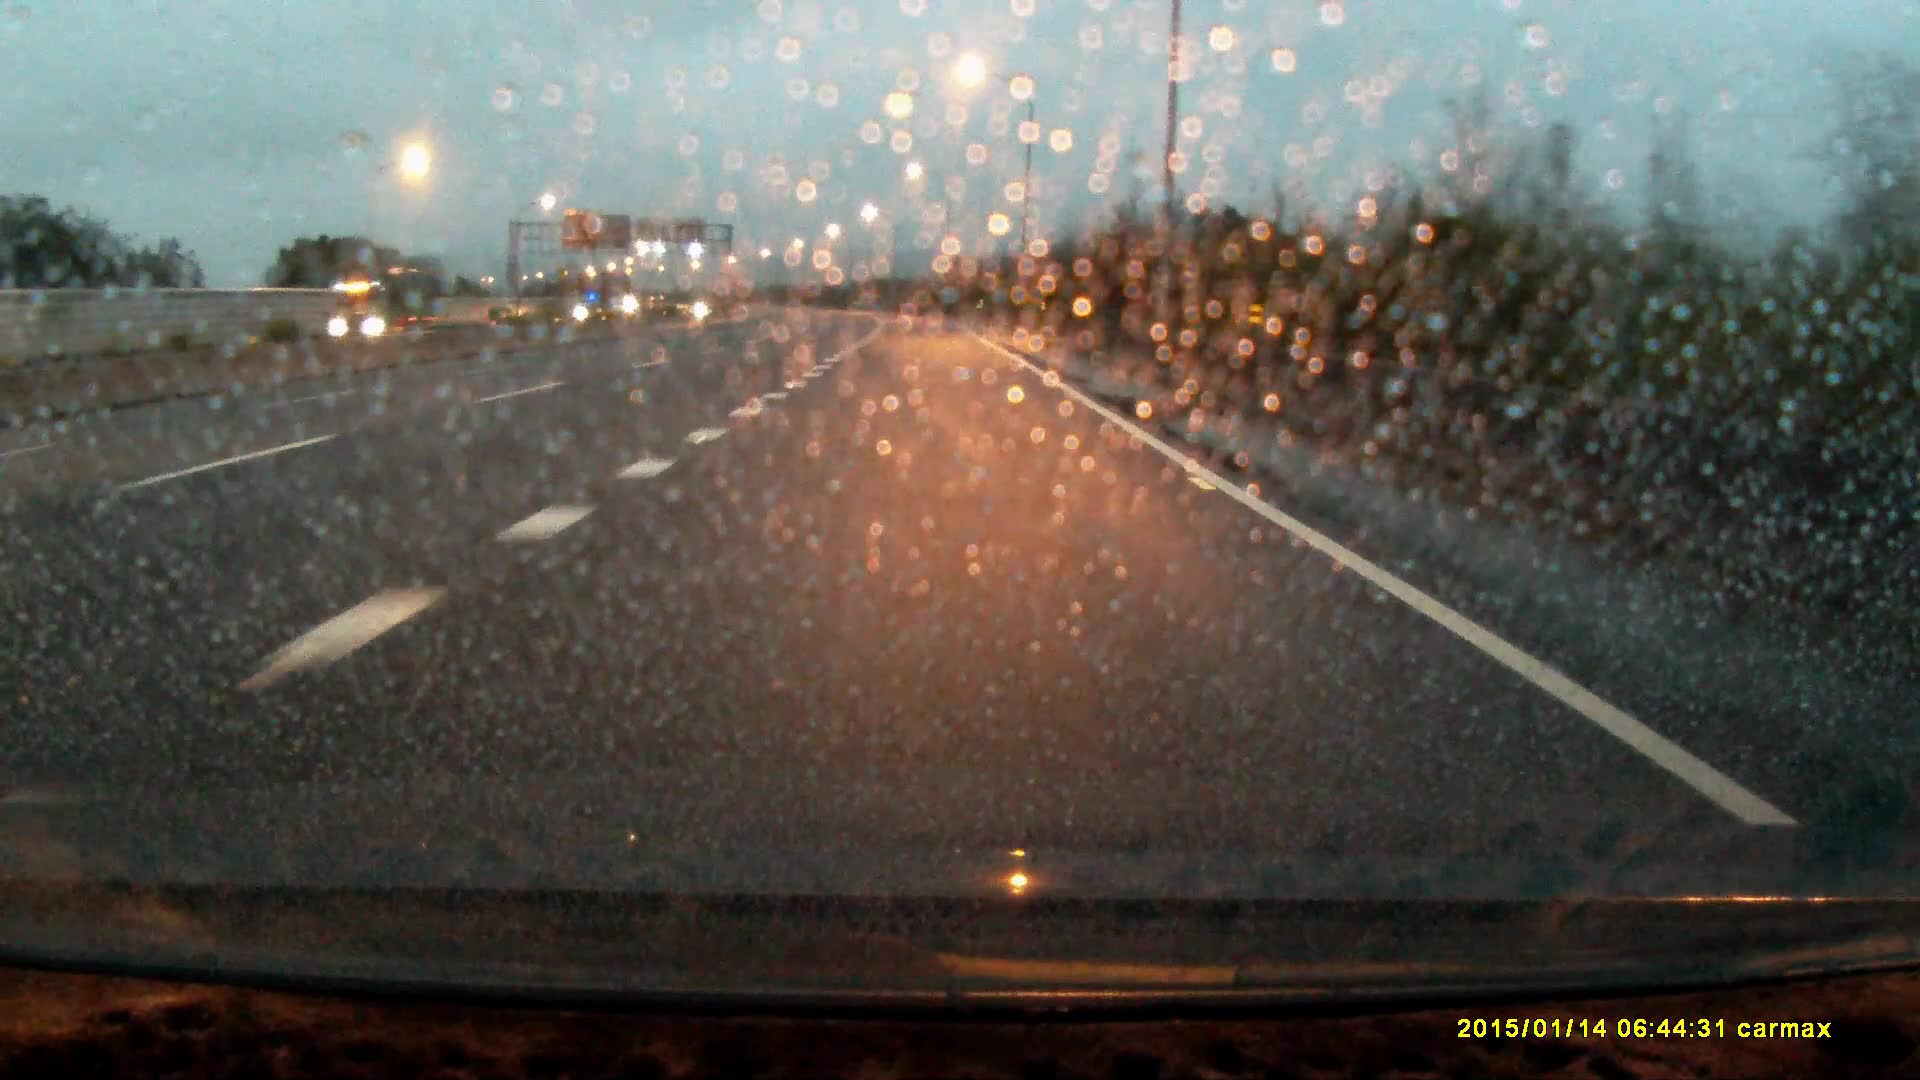vehicle: (326, 280, 415, 345)
